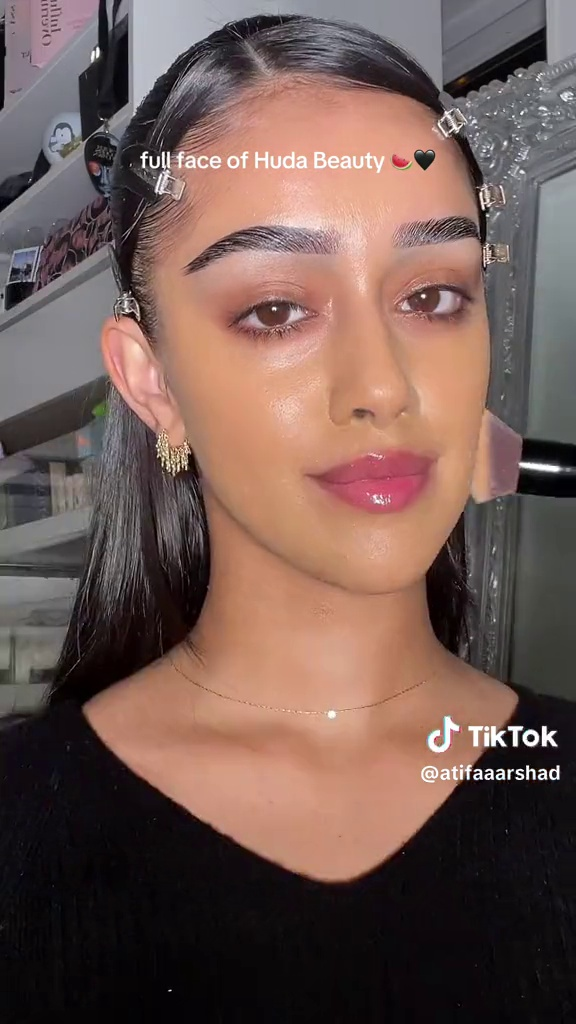train' :'yolo_data/train/images',: (461, 397, 575, 521)
